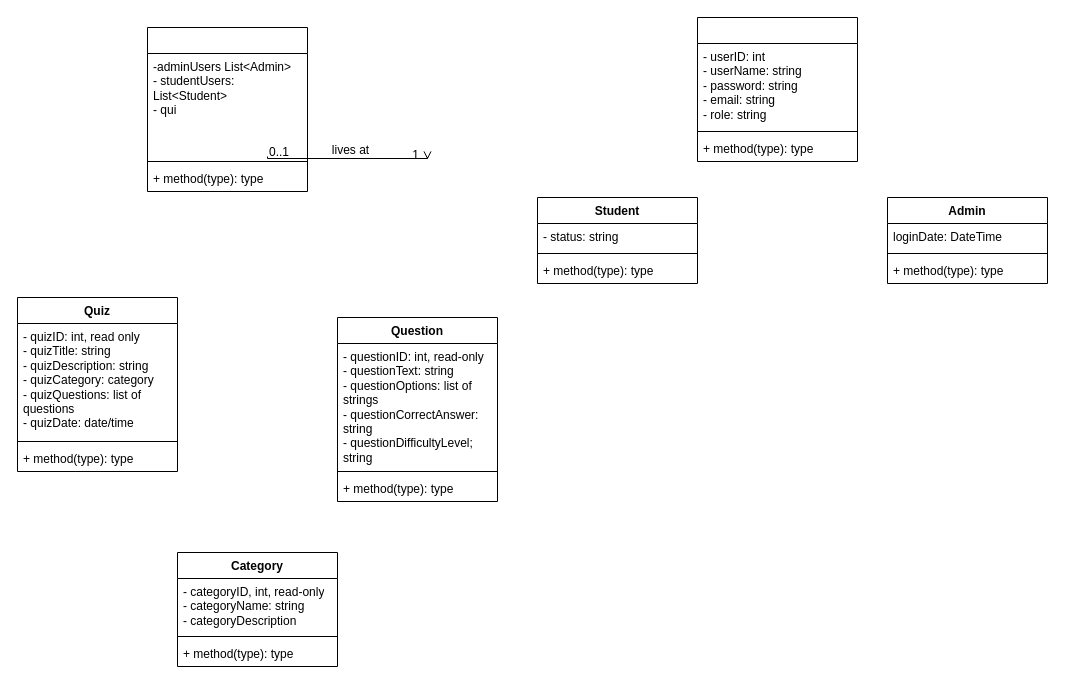
Some shapes in this 1065 by 687 pixel diagram are drawn without their labels. Here are the shapes that lost their labels. From the top down, the box of each, then its label:
(146, 26, 308, 192): QuizSystem
(696, 16, 858, 162): Users
